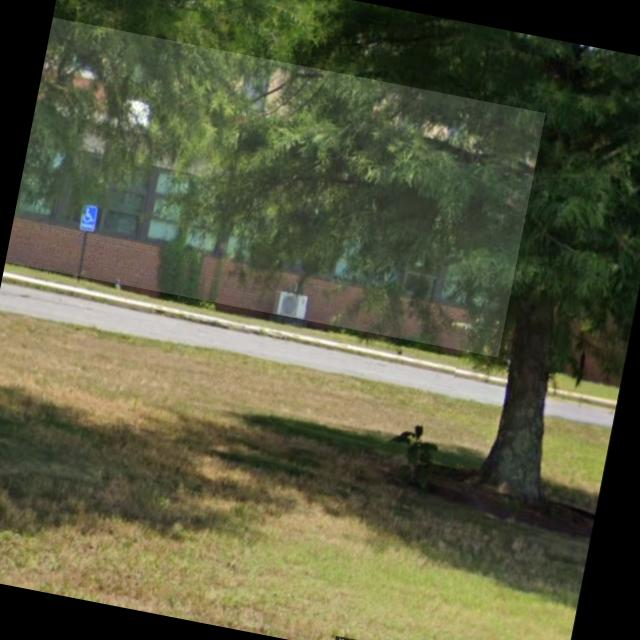House: (6, 18, 546, 358)
